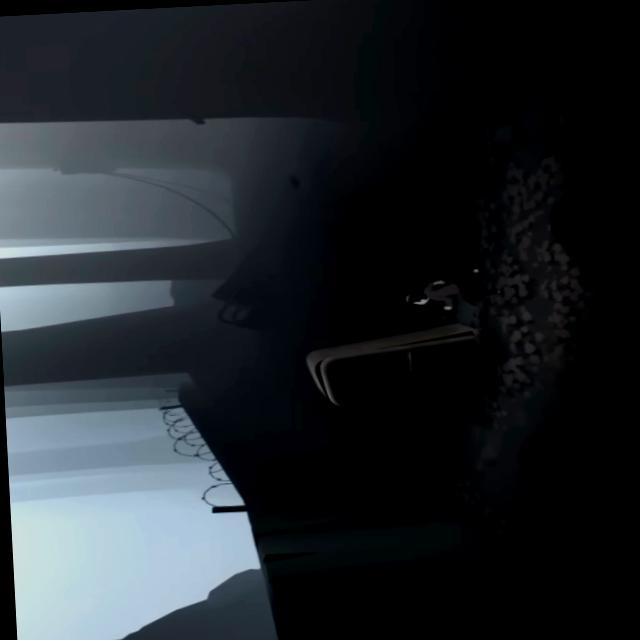boy: (402, 267, 488, 311)
